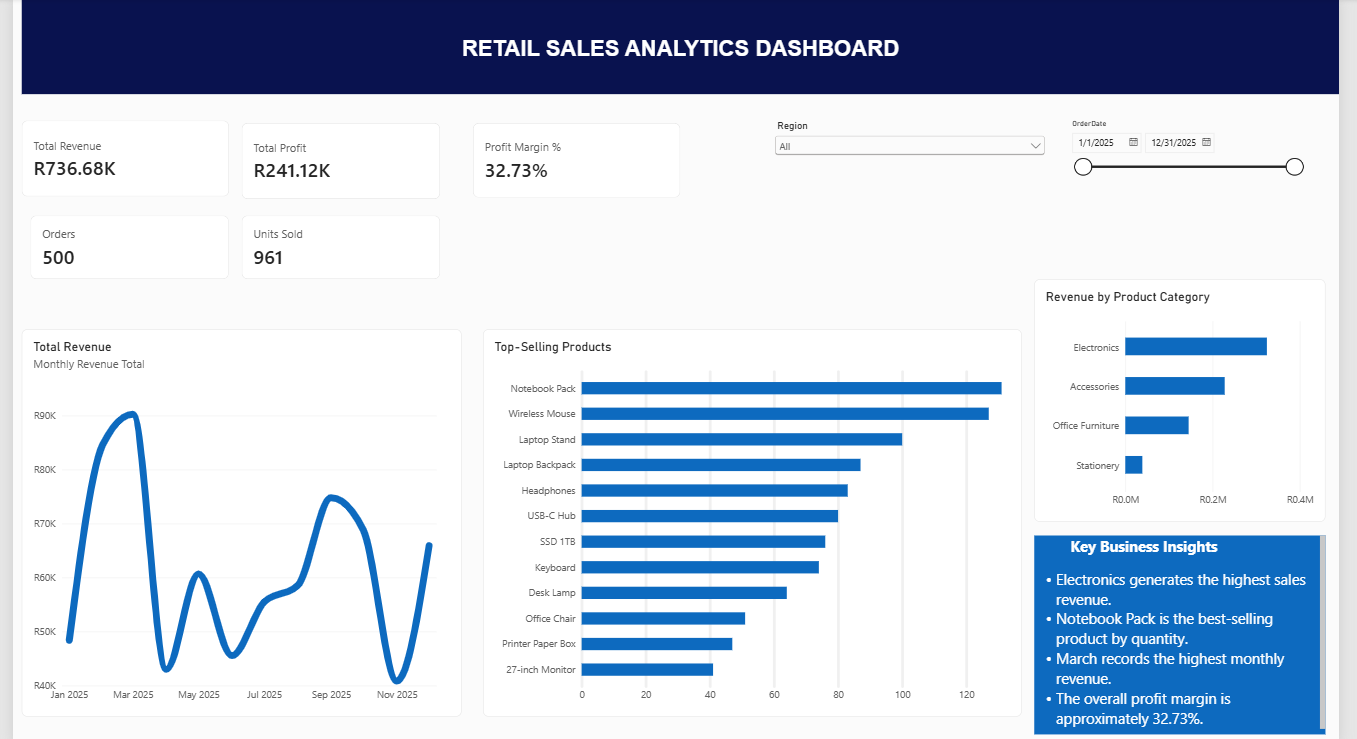

This screenshot's page, from the dashboard's own definition file:
{"tool":"powerbi","page":{"name":"Page 1","canvas":[1920,1080],"ordinal":0},"visuals":[{"type":"cardVisual","fields":{"Data":["sales_data.Total Revenue"]},"box":[12.7,177.3,300.4,110.4],"z":0},{"type":"cardVisual","fields":{"Data":["sales_data.Total Profit"]},"box":[331.2,181,287.7,110.4],"z":1000},{"type":"cardVisual","fields":{"Data":["sales_data.Units Sold"]},"box":[331.2,314.9,287.7,92.3],"z":2000},{"type":"cardVisual","fields":{"Data":["sales_data.Orders"]},"box":[25.3,314.9,287.7,92.3],"z":3000},{"type":"clusteredBarChart","title":"Top-Selling Products","fields":{"Category":["sales_data.ProductName"],"Y":["sales_data.Units Sold"]},"box":[680.4,479.6,780,561],"z":4000},{"type":"lineChart","title":"Total Revenue","fields":{"Category":["sales_data.OrderDate.Variation.Date Hierarchy.Year","sales_data.OrderDate.Variation.Date Hierarchy.Quarter","sales_data.OrderDate.Variation.Date Hierarchy.Month","sales_data.OrderDate.Variation.Date Hierarchy.Day"],"Y":["sales_data.Total Revenue"]},"box":[12.7,479.6,637,561],"z":5000},{"type":"clusteredBarChart","title":"Revenue by Product Category","fields":{"Category":["sales_data.Category"],"Y":["sales_data.Total Revenue"]},"box":[1478.5,407.2,421.7,351.1],"z":6000},{"type":"cardVisual","fields":{"Data":["sales_data.Profit Margin %"]},"box":[666,181,300.4,108.6],"z":7000},{"type":"slicer","fields":{"Values":["sales_data.Region"]},"box":[1098.5,175.5,399.9,68.8],"z":8000},{"type":"slicer","fields":{"Values":["sales_data.OrderDate"]},"box":[1525.5,175.5,345.6,115.8],"z":9000},{"type":"textbox","box":[12.7,0,1907.4,139.3],"z":11001},{"type":"textbox","box":[1478.5,778.2,421.7,287.7],"z":11002}]}

Visuals, with their boxes on the page's 1920x1080 design canvas (x1, y1, x2, y2). These are canvas units, not pixel positions in the 1357x739 screenshot, which may show the page scaled, cropped or inside an application window:
cardVisual - sales_data.Total Revenue: (left=13, top=177, right=313, bottom=288)
cardVisual - sales_data.Total Profit: (left=331, top=181, right=619, bottom=291)
cardVisual - sales_data.Units Sold: (left=331, top=315, right=619, bottom=407)
cardVisual - sales_data.Orders: (left=25, top=315, right=313, bottom=407)
"Top-Selling Products" clusteredBarChart: (left=680, top=480, right=1460, bottom=1041)
"Total Revenue" lineChart: (left=13, top=480, right=650, bottom=1041)
"Revenue by Product Category" clusteredBarChart: (left=1478, top=407, right=1900, bottom=758)
cardVisual - sales_data.Profit Margin %: (left=666, top=181, right=966, bottom=290)
slicer - sales_data.Region: (left=1098, top=176, right=1498, bottom=244)
slicer - sales_data.OrderDate: (left=1526, top=176, right=1871, bottom=291)
textbox: (left=13, top=0, right=1920, bottom=139)
textbox: (left=1478, top=778, right=1900, bottom=1066)
